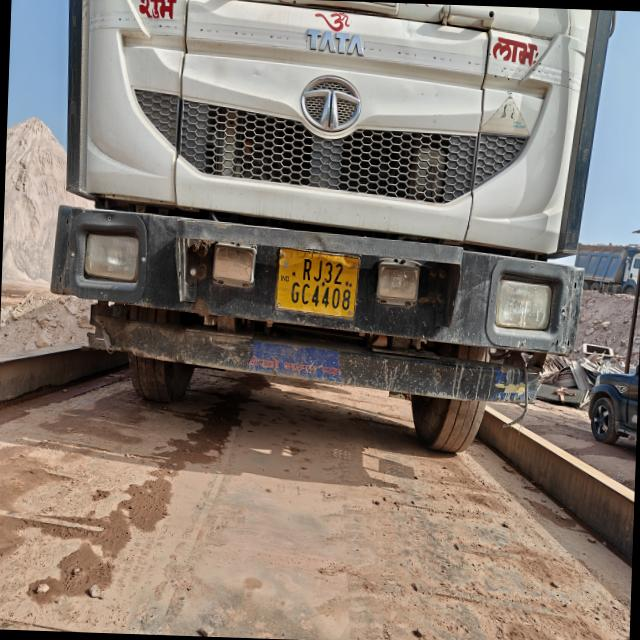license_plate: (276, 249, 359, 318)
